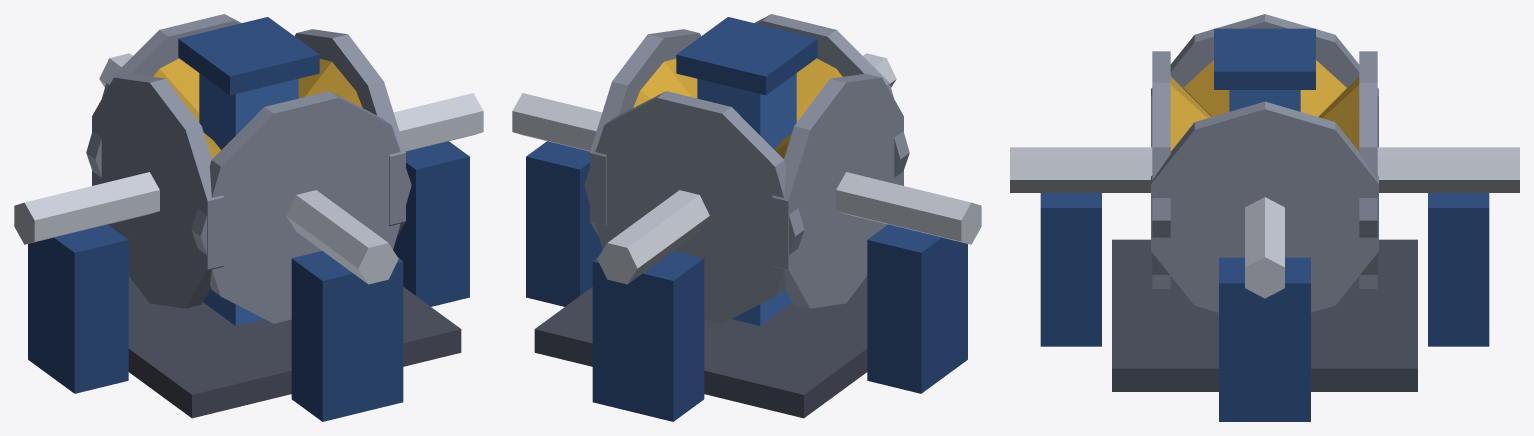
The model's file is bevel-cross.glb.
3 views of the same model, side by side, from view 1: azimuth 30°, elevation 25°; view 2: azimuth 150°, elevation 25°; view 3: azimuth 270°, elevation 25° (orthographic).
Visible parts, largest first — view 1: bevel-cross, spin-y, spin-nx, spin-x, spin-ny; view 2: bevel-cross, spin-ny, spin-nx, spin-x, spin-y; view 3: bevel-cross, spin-x, spin-ny, spin-y, spin-nx.
Part boxes in pixels (x1,y1,x2,y2): bevel-cross: (28, 17, 469, 421); spin-y: (191, 91, 411, 323); spin-nx: (14, 73, 223, 308); spin-x: (295, 29, 483, 237); spin-ny: (86, 14, 241, 177); bevel-cross: (526, 17, 967, 421); spin-ny: (584, 91, 804, 323); spin-nx: (772, 73, 981, 308); spin-x: (512, 29, 700, 237); spin-y: (754, 14, 909, 177); bevel-cross: (1040, 28, 1489, 421); spin-x: (1151, 101, 1378, 312); spin-ny: (1318, 51, 1519, 288); spin-y: (1010, 51, 1211, 288); spin-nx: (1151, 14, 1378, 147).
Size of the model in its own units: 1 by 0.6 by 1.
Materials: 5 (5 with a texture image).
